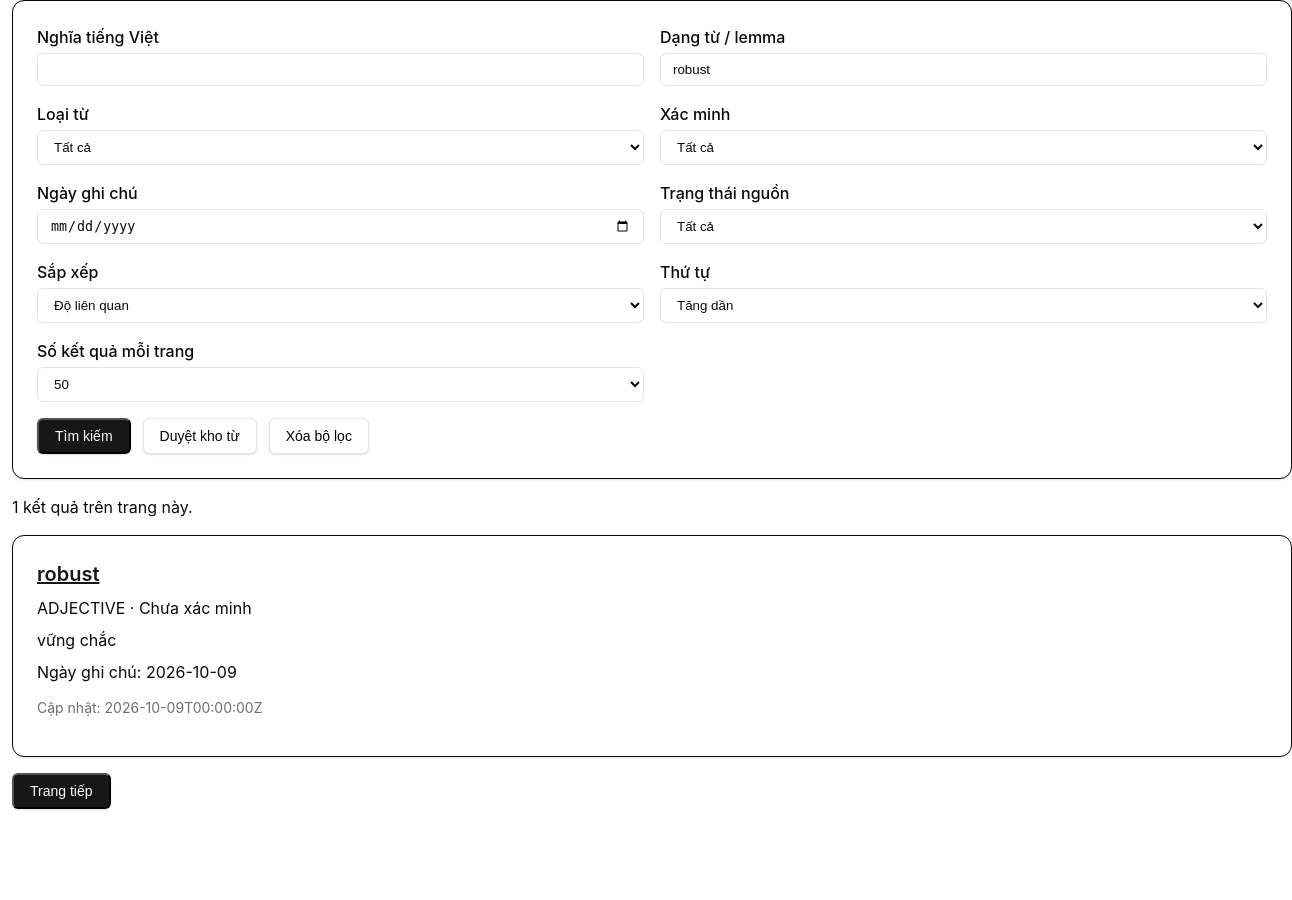
T028 local search › pages using the opaque server cursor and restarts expiry without losing filters
Click the button "Trang tiếp": coordinates (61, 791) [12,773,110,809]
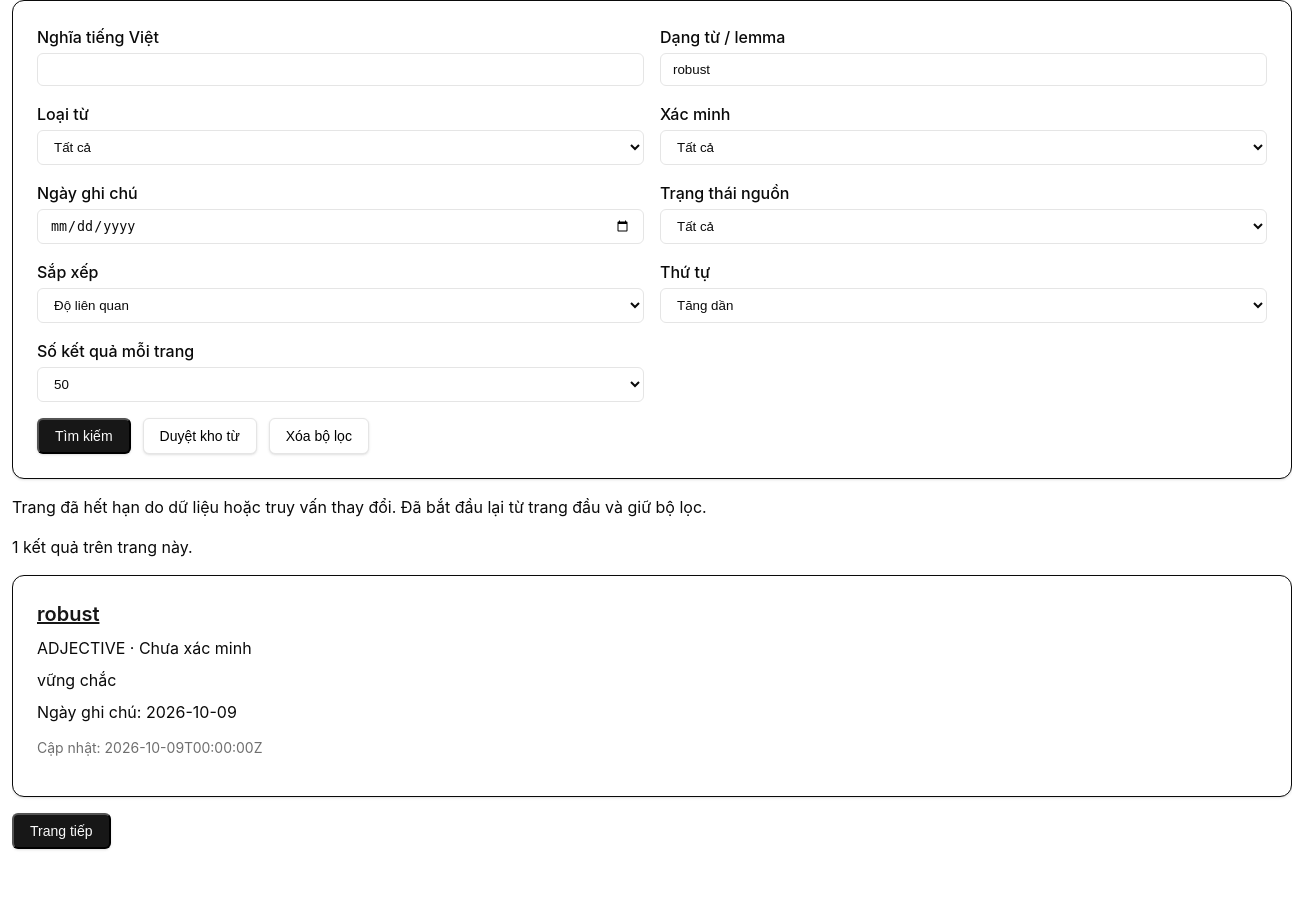
Check: the text "Trang đã hết hạn" is shown, box [12,497,707,517]
